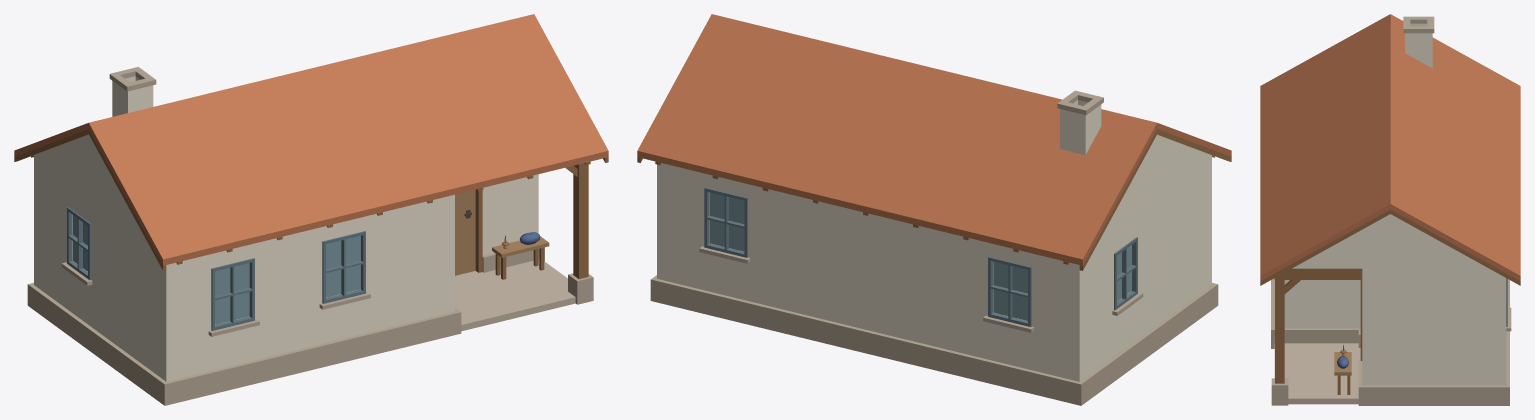
Rendered from Casa-de-la-Hilandera.glb.
3 renders of one model, left to right at view 1: azimuth 30°, elevation 25°; view 2: azimuth 150°, elevation 25°; view 3: azimuth 270°, elevation 25°, orthographic. The views are drawn at different scales.
Visible parts, largest first — view 1: Faldón · calle, Muro · Fachada, Muro · Hastial izquierdo, Piso · porche, Muro · Entrada, Zócalo · 1.1.3 · Fachada, Zócalo · 1.1.1 · Fachada, Zócalo · 1.1.2 · Fachada, Zócalo · 6.1.1 · Hastial izquierdo, Porche · poste, Zócalo · 6.1.2 · Hastial izquierdo, Puerta · hoja (+9 smaller); view 2: Faldón · trasera, Muro · Trasera, Muro · Hastial izquierdo, Zócalo · 5.1.1 · Trasera, Zócalo · 5.1.4 · Trasera, Zócalo · 5.1.3 · Trasera, Zócalo · 5.1.2 · Trasera, Zócalo · 6.1.2 · Hastial izquierdo, Zócalo · 6.1.1 · Hastial izquierdo, Chimenea · cañón, Cristal · Trasera 2, Cristal · Trasera 1 (+2 smaller); view 3: Faldón · calle, Faldón · trasera, Muro · Hastial derecho, Piso · porche, Muro · Retorno del porche, Zócalo · 4.1.1 · Hastial derecho, Zócalo · 4.1.2 · Hastial derecho, Hastial · paño sobre el porche, Zócalo · 2.1.1 · Retorno del porche, Porche · poste, Porche · viga lateral, Chimenea · cañón (+6 smaller).
Boxes of the visible parts, x1=… form: Faldón · calle: x1=88, y1=14, x2=608, y2=265; Muro · Fachada: x1=166, y1=194, x2=454, y2=381; Muro · Hastial izquierdo: x1=34, y1=134, x2=166, y2=381; Piso · porche: x1=455, y1=259, x2=575, y2=331; Muro · Entrada: x1=482, y1=174, x2=538, y2=255; Zócalo · 1.1.3 · Fachada: x1=359, y1=311, x2=461, y2=357; Zócalo · 1.1.1 · Fachada: x1=164, y1=358, x2=264, y2=405; Zócalo · 1.1.2 · Fachada: x1=263, y1=335, x2=360, y2=381; Zócalo · 6.1.1 · Hastial izquierdo: x1=27, y1=284, x2=99, y2=355; Porche · poste: x1=573, y1=163, x2=588, y2=278; Zócalo · 6.1.2 · Hastial izquierdo: x1=96, y1=333, x2=165, y2=405; Puerta · hoja: x1=455, y1=189, x2=475, y2=275; Faldón · trasera: x1=637, y1=14, x2=1157, y2=265; Muro · Trasera: x1=657, y1=163, x2=1079, y2=381; Muro · Hastial izquierdo: x1=1079, y1=134, x2=1211, y2=381; Zócalo · 5.1.1 · Trasera: x1=650, y1=279, x2=762, y2=327; Zócalo · 5.1.4 · Trasera: x1=971, y1=356, x2=1081, y2=405; Zócalo · 5.1.3 · Trasera: x1=866, y1=330, x2=973, y2=378; Zócalo · 5.1.2 · Trasera: x1=760, y1=304, x2=867, y2=353; Zócalo · 6.1.2 · Hastial izquierdo: x1=1146, y1=284, x2=1218, y2=355; Zócalo · 6.1.1 · Hastial izquierdo: x1=1080, y1=333, x2=1149, y2=405; Chimenea · cañón: x1=1060, y1=100, x2=1101, y2=155; Cristal · Trasera 2: x1=993, y1=261, x2=1027, y2=320; Cristal · Trasera 1: x1=709, y1=192, x2=744, y2=251; Faldón · calle: x1=1260, y1=14, x2=1390, y2=281; Faldón · trasera: x1=1390, y1=14, x2=1520, y2=281; Muro · Hastial derecho: x1=1362, y1=214, x2=1506, y2=385; Piso · porche: x1=1274, y1=343, x2=1360, y2=404; Muro · Retorno del porche: x1=1274, y1=280, x2=1360, y2=328; Zócalo · 4.1.1 · Hastial derecho: x1=1358, y1=385, x2=1434, y2=405; Zócalo · 4.1.2 · Hastial derecho: x1=1434, y1=385, x2=1509, y2=405; Hastial · paño sobre el porche: x1=1292, y1=230, x2=1362, y2=268; Zócalo · 2.1.1 · Retorno del porche: x1=1271, y1=328, x2=1360, y2=348; Porche · poste: x1=1275, y1=280, x2=1284, y2=383; Porche · viga lateral: x1=1284, y1=268, x2=1362, y2=279; Chimenea · cañón: x1=1405, y1=23, x2=1432, y2=68.
Size of the model in its own units: 7.38 by 4.03 by 4.27.
